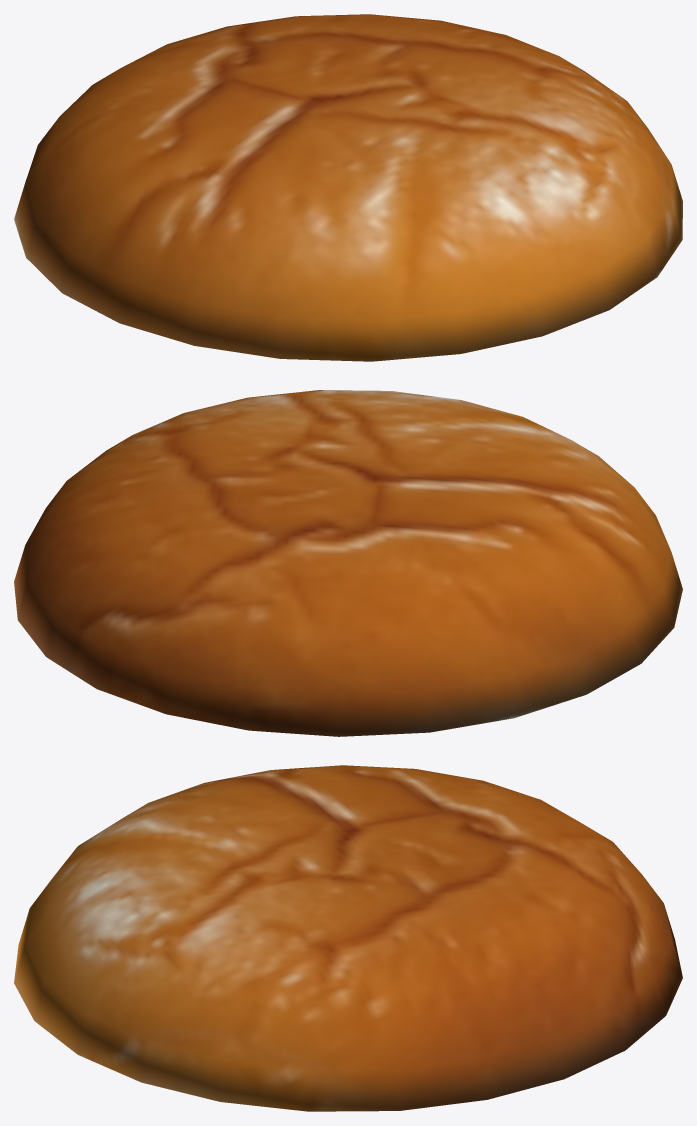
File: Top_Bun.glb
The picture shows the model from 3 angles, top to bottom: view 1: azimuth 30°, elevation 25°; view 2: azimuth 150°, elevation 25°; view 3: azimuth 270°, elevation 25°; orthographic projection.
Parts seen in each view (by area): view 1: Top_Bun; view 2: Top_Bun; view 3: Top_Bun.
Boxes of the visible parts, <box> form: Top_Bun: <box>14,14,682,361</box>; Top_Bun: <box>14,390,682,736</box>; Top_Bun: <box>14,765,682,1111</box>.
Size of the model in its own units: 0.2156 by 0.045 by 0.2158.
1 material, 1 textured.
